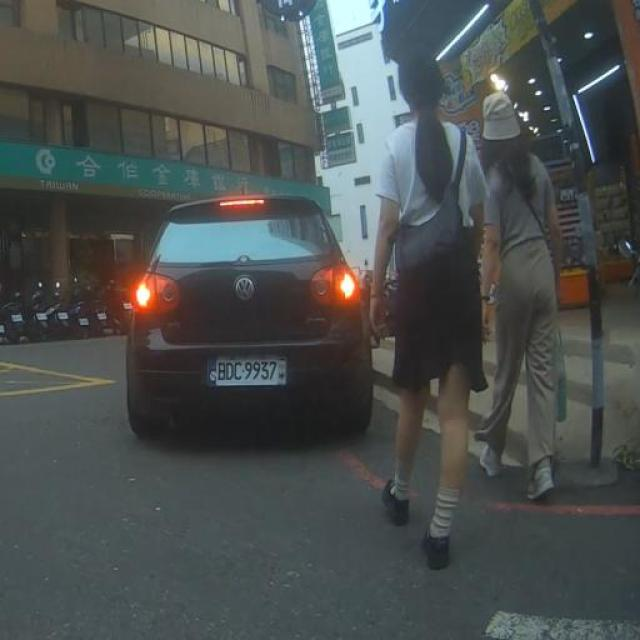illegalparking: (106, 186, 382, 504)
